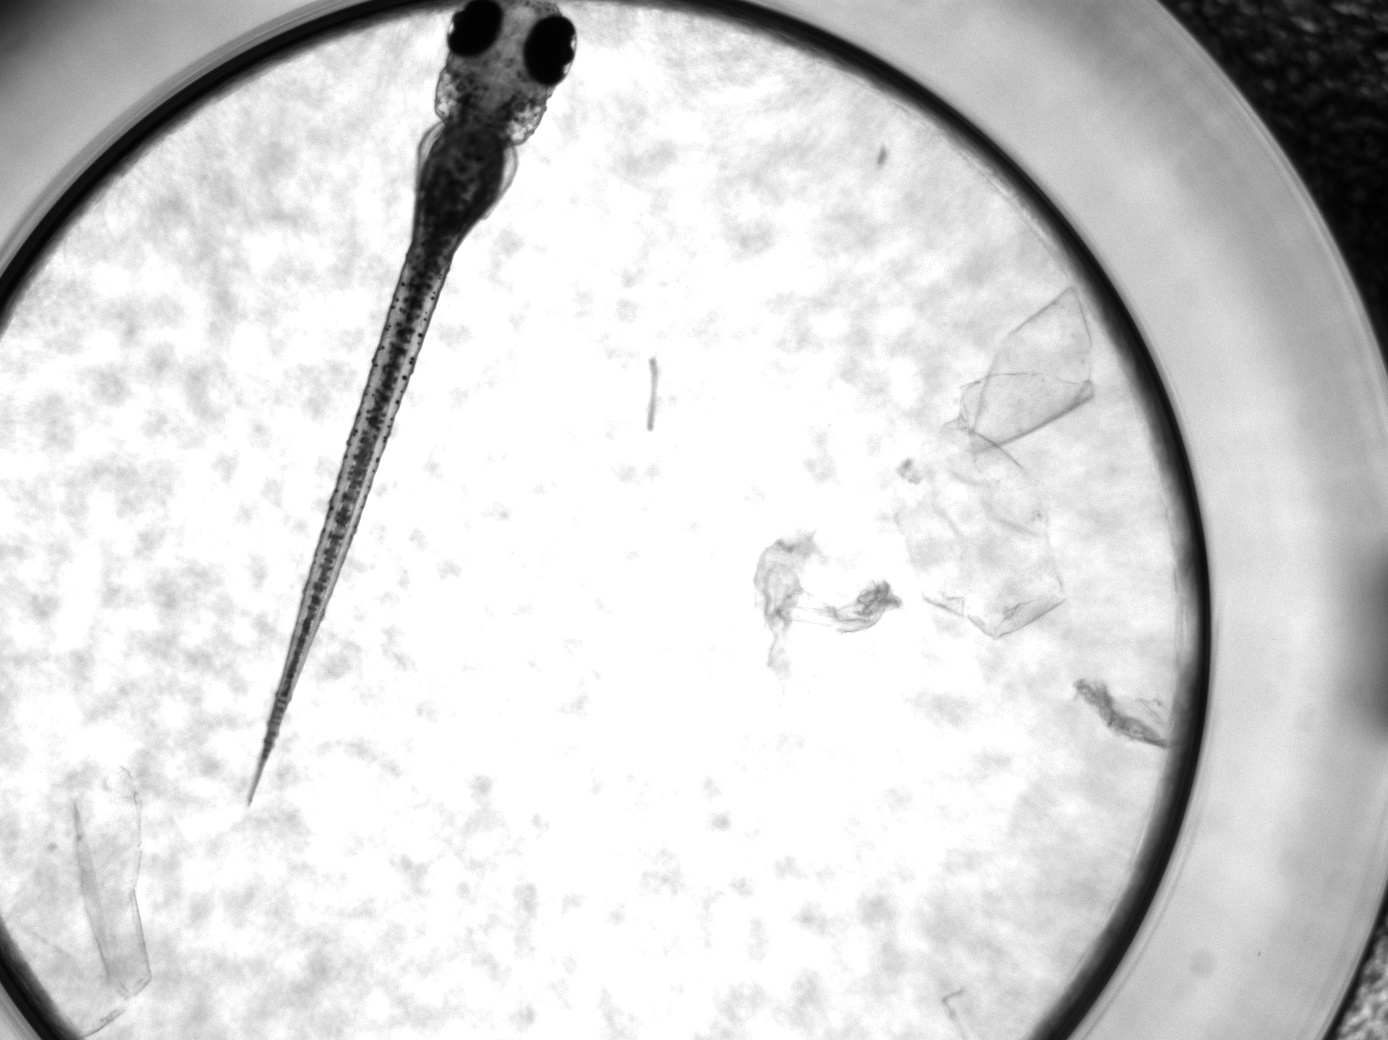debris: (888, 284, 1096, 639), (754, 528, 901, 673)
embryo: (247, 1, 578, 808)
eye: (524, 15, 577, 86), (446, 1, 503, 57)
yolksac: (415, 113, 512, 243)
